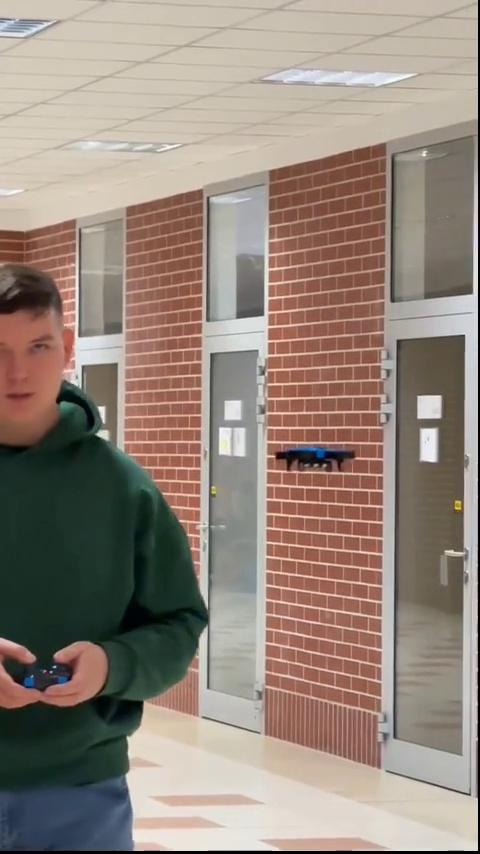drone: (268, 447, 358, 475)
no vest: (0, 259, 211, 854)
